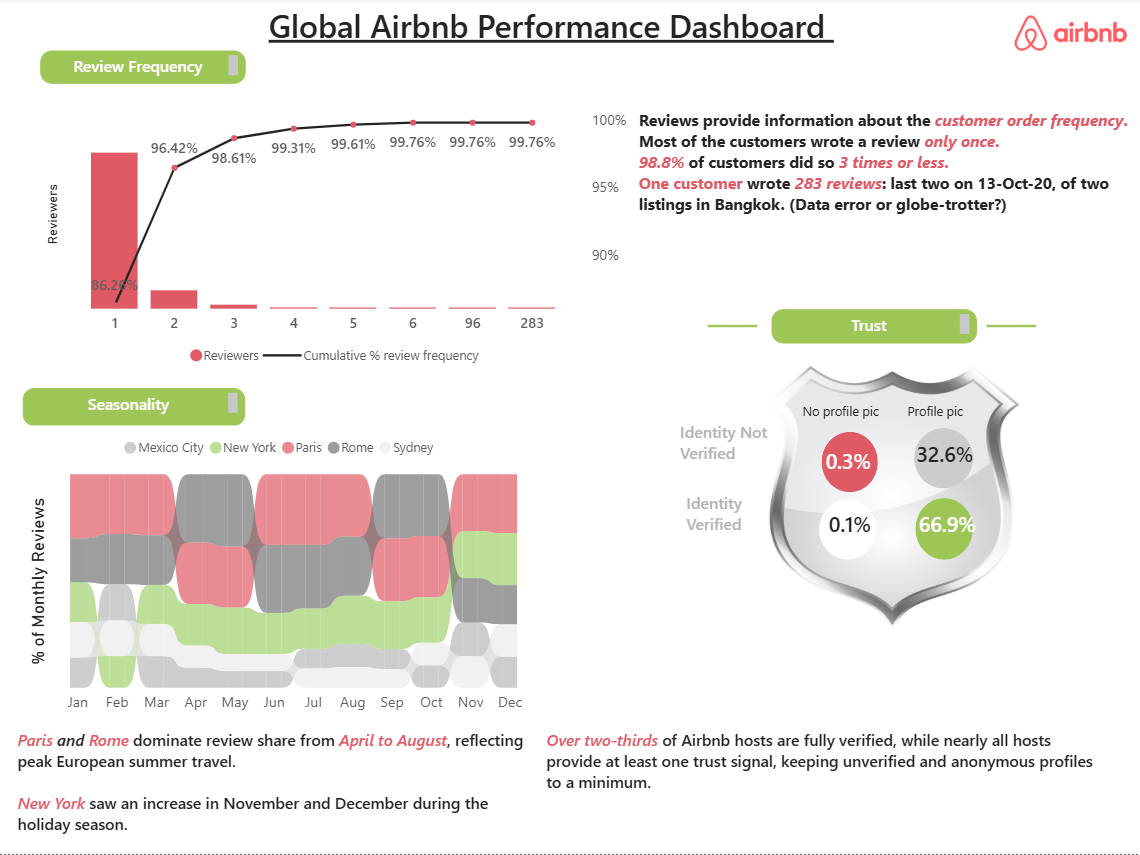

This screenshot's page, from the dashboard's own definition file:
{"tool":"powerbi","page":{"name":"Reviews","canvas":[960,720],"ordinal":2},"visuals":[{"type":"textbox","box":[221.4,0,517.3,58.9],"z":0},{"type":"image","box":[842.2,14.7,117.8,29.4],"z":1000},{"type":"textbox","box":[34.7,44.2,172.4,28.4],"z":2000},{"type":"textbox","box":[533.3,88.3,426.9,115.5],"z":3000},{"type":"textbox","box":[649.7,261.9,172.5,28.6],"z":5000},{"type":"shape","box":[595.9,241,41.7,70.3],"z":6000},{"type":"shape","box":[831,241,41.7,70.3],"z":7000},{"type":"textbox","box":[455.2,610.3,472.2,63.4],"z":8000},{"type":"lineStackedColumnComboChart","fields":{"Category":["Reviews.Reviews per Reviewer"],"Y":["Reviews.Reviewers"],"Y2":["Reviews.Cumulative % review frequency"]},"box":[35.1,88.3,498.2,229.9],"z":9000},{"type":"image","box":[542.4,251.4,417.8,338.6],"z":10000},{"type":"shape","box":[691.9,364.6,47.6,51],"z":11000},{"type":"shape","box":[689.6,421.2,48.7,51],"z":12000},{"type":"shape","box":[771.1,420.1,48.7,52.1],"z":13000},{"type":"shape","box":[770,361.2,49.8,51],"z":14000},{"type":"textbox","box":[670.3,331.8,100.8,32.8],"z":15000},{"type":"textbox","box":[758.7,331.8,100.8,32.8],"z":16000},{"type":"textbox","box":[569.6,352.2,95.1,60],"z":17000},{"type":"textbox","box":[575.2,412.2,95.1,60],"z":18000},{"type":"cardVisual","fields":{"Data":["Listings.Verified_Profile %"]},"box":[728.1,388.4,140.4,107.6],"z":19000},{"type":"cardVisual","fields":{"Data":["Listings.NotVerified_Profile %"]},"box":[725.8,329.5,140.4,107.6],"z":20000},{"type":"cardVisual","fields":{"Data":["Listings.Verified_NoProfile %"]},"box":[645.4,388.4,140.4,107.6],"z":21000},{"type":"cardVisual","fields":{"Data":["Listings.NotVerified_NoProfile %"]},"box":[651.1,334,128,107.6],"z":22000},{"type":"textbox","box":[20.4,328.4,186.8,31.7],"z":23000},{"type":"ribbonChart","fields":{"Category":["Reviews.Review Month"],"Series":["Listings.city"],"Y":["Reviews.% of Monthly Reviews"]},"box":[20.4,360.1,434.8,250.2],"z":24000},{"type":"textbox","box":[10.2,610.3,445,109.8],"z":25000}]}

Visuals, with their boxes in screenshot pixels (x1, y1, x2, y2), scaled from the page's 960x720 canvas onto the 1140x855 screenshot:
textbox: rect(263, 0, 877, 70)
image: rect(1000, 17, 1139, 52)
textbox: rect(41, 52, 246, 86)
textbox: rect(633, 105, 1139, 242)
textbox: rect(772, 311, 976, 345)
shape: rect(708, 286, 757, 370)
shape: rect(987, 286, 1036, 370)
textbox: rect(541, 725, 1101, 800)
lineStackedColumnComboChart - Reviews.Reviews per Reviewer x Reviews.Reviewers: rect(42, 105, 633, 378)
image: rect(644, 299, 1139, 701)
shape: rect(822, 433, 878, 494)
shape: rect(819, 500, 877, 561)
shape: rect(916, 499, 974, 561)
shape: rect(914, 429, 974, 489)
textbox: rect(796, 394, 916, 433)
textbox: rect(901, 394, 1021, 433)
textbox: rect(676, 418, 789, 489)
textbox: rect(683, 489, 796, 561)
cardVisual - Listings.Verified_Profile %: rect(865, 461, 1031, 589)
cardVisual - Listings.NotVerified_Profile %: rect(862, 391, 1029, 519)
cardVisual - Listings.Verified_NoProfile %: rect(766, 461, 933, 589)
cardVisual - Listings.NotVerified_NoProfile %: rect(773, 397, 925, 524)
textbox: rect(24, 390, 246, 428)
ribbonChart - Reviews.Review Month x Listings.city: rect(24, 428, 541, 725)
textbox: rect(12, 725, 541, 854)
